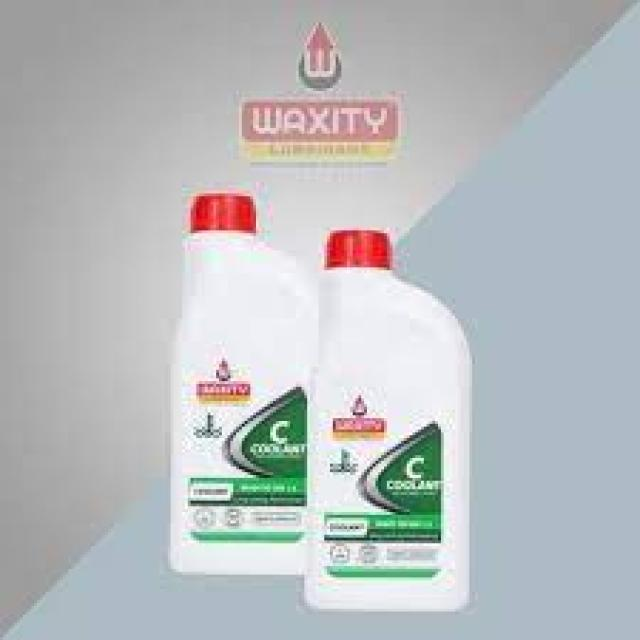coolant: (164, 183, 324, 580), (327, 219, 469, 610)
